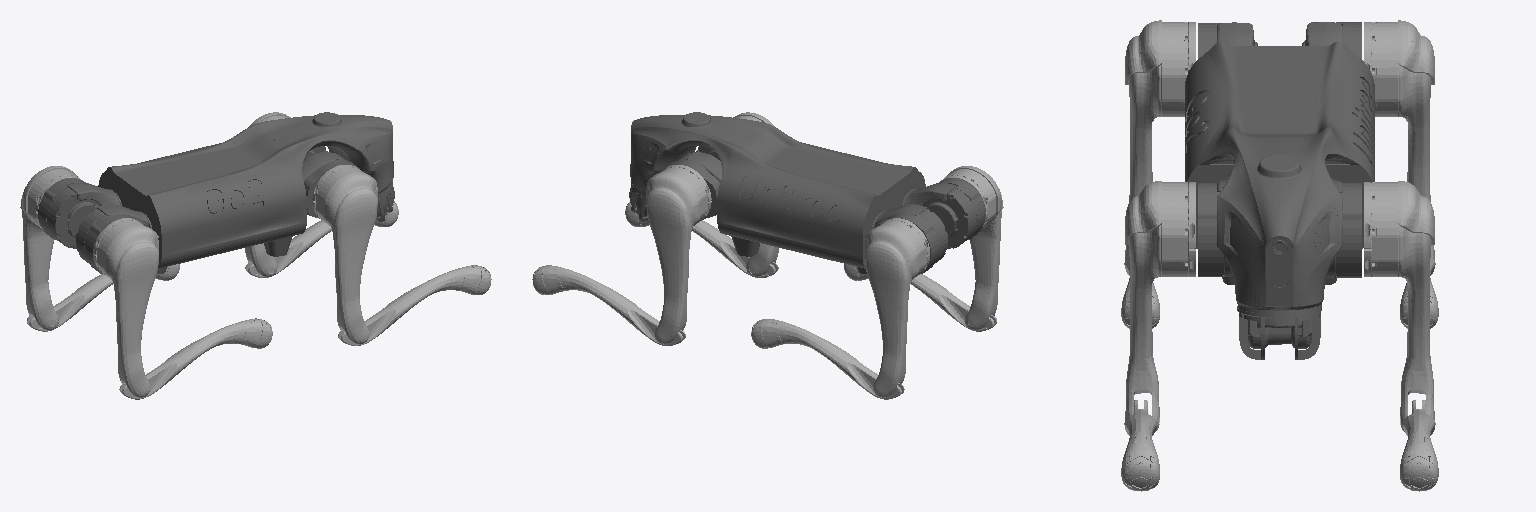
URDF robot description (go2_description):
<?xml version='1.0' encoding='utf-8'?>
<robot name="go2_description">
  <link name="base">
    <inertial>
      <origin xyz="0.021112 0 -0.005366" rpy="0 0 0" />
      <mass value="6.921" />
      <inertia ixx="0.02448" ixy="0.00012166" ixz="0.0014849" iyy="0.098077" iyz="-3.12E-05" izz="0.107" />
    </inertial>
    <visual>
      <origin xyz="0 0 0" rpy="0 0 0" />
      <geometry>
        <mesh filename="../../source/assets/go2/dae/base.dae" />
      </geometry>
      <material name="go2_base_mat">
        <color rgba="0.439215686 0.439215686 0.439215686 1" />
      </material>
    </visual>
    <collision>
      <origin rpy="0 0 0" xyz="0 0 0" />
      <geometry>
        <box size="0.3762 0.0935 0.114" />
      </geometry>
    </collision>
  </link>
  <link name="Head_upper">
    <inertial>
      <origin xyz="0 0 0" rpy="0 0 0" />
      <mass value="0.001" />
      <inertia ixx="9.6e-06" ixy="0" ixz="0" iyy="9.6e-06" iyz="0" izz="9.6e-06" />
    </inertial>
    <collision>
      <origin xyz="0 0 0" rpy="0 0 0" />
      <geometry>
        <cylinder radius="0.05" length="0.09" />
      </geometry>
    </collision>
  </link>
  <joint name="Head_upper_joint" type="fixed" dont_collapse="true">
    <origin xyz="0.285 0 0.01" rpy="0 0 0" />
    <parent link="base" />
    <child link="Head_upper" />
    <axis xyz="0 0 0" />
  </joint>
  <link name="Head_lower">
    <inertial>
      <origin xyz="0 0 0" rpy="0 0 0" />
      <mass value="0.001" />
      <inertia ixx="9.6e-06" ixy="0" ixz="0" iyy="9.6e-06" iyz="0" izz="9.6e-06" />
    </inertial>
    <collision>
      <origin xyz="0 0 0" rpy="0 0 0" />
      <geometry>
        <sphere radius="0.047" />
      </geometry>
    </collision>
  </link>
  <joint name="Head_lower_joint" type="fixed" dont_collapse="true">
    <origin xyz="0.008 0 -0.07" rpy="0 0 0" />
    <parent link="Head_upper" />
    <child link="Head_lower" />
    <axis xyz="0 0 0" />
  </joint>
  <link name="FL_hip">
    <inertial>
      <origin xyz="-0.0054 0.00194 -0.000105" rpy="0 0 0" />
      <mass value="0.678" />
      <inertia ixx="0.00048" ixy="-3.01E-06" ixz="1.11E-06" iyy="0.000884" iyz="-1.42E-06" izz="0.000596" />
    </inertial>
    <visual>
      <origin xyz="0 0 0" rpy="0 0 0" />
      <geometry>
        <mesh filename="../../source/assets/go2/dae/hip.dae" />
      </geometry>
      <material name="go2_FL_hip_mat">
        <color rgba="0.439215686 0.439215686 0.439215686 1" />
      </material>
    </visual>
    <collision>
      <origin rpy="1.5707963267948966 0 0" xyz="0 0.08 0" />
      <geometry>
        <cylinder length="0.04" radius="0.046" />
      </geometry>
    </collision>
  </link>
  <joint name="FL_hip_joint" type="revolute">
    <origin xyz="0.1934 0.0465 0" rpy="0 0 0" />
    <parent link="base" />
    <child link="FL_hip" />
    <axis xyz="1 0 0" />
    <limit lower="-1.0472" upper="1.0472" effort="23.7" velocity="30.1" />
  </joint>
  <link name="FL_thigh">
    <inertial>
      <origin xyz="-0.00374 -0.0223 -0.0327" rpy="0 0 0" />
      <mass value="1.152" />
      <inertia ixx="0.00584" ixy="8.72E-05" ixz="-0.000289" iyy="0.0058" iyz="0.000808" izz="0.00103" />
    </inertial>
    <visual>
      <origin xyz="0 0 0" rpy="0 0 0" />
      <geometry>
        <mesh filename="../../source/assets/go2/dae/thigh.dae" />
      </geometry>
      <material name="go2_FL_thigh_mat">
        <color rgba="0.690196078 0.690196078 0.690196078 1" />
      </material>
    </visual>
    <collision>
      <origin rpy="0 1.5707963267948966 0" xyz="0 0 -0.1065" />
      <geometry>
        <box size="0.11 0.0245 0.034" />
      </geometry>
    </collision>
  </link>
  <joint name="FL_thigh_joint" type="revolute">
    <origin xyz="0 0.0955 0" rpy="0 0 0" />
    <parent link="FL_hip" />
    <child link="FL_thigh" />
    <axis xyz="0 1 0" />
    <limit lower="-1.5708" upper="3.4907" effort="23.7" velocity="30.1" />
  </joint>
  <link name="FL_calf">
    <inertial>
      <origin xyz="0.00548 -0.000975 -0.115" rpy="0 0 0" />
      <mass value="0.154" />
      <inertia ixx="0.00108" ixy="3.4E-07" ixz="1.72E-05" iyy="0.0011" iyz="8.28E-06" izz="3.29E-05" />
    </inertial>
    <visual>
      <origin xyz="0 0 0" rpy="0 0 0" />
      <geometry>
        <mesh filename="../../source/assets/go2/dae/calf.dae" />
      </geometry>
      <material name="go2_FL_calf_mat">
        <color rgba="0.690196078 0.690196078 0.690196078 1" />
      </material>
    </visual>
    <collision>
      <origin rpy="0 -0.21 0" xyz="0.008 0 -0.06" />
      <geometry>
        <cylinder length="0.12" radius="0.012" />
      </geometry>
    </collision>
  </link>
  <joint name="FL_calf_joint" type="revolute">
    <origin xyz="0 0 -0.213" rpy="0 0 0" />
    <parent link="FL_thigh" />
    <child link="FL_calf" />
    <axis xyz="0 1 0" />
    <limit lower="-2.7227" upper="-0.83776" effort="35.55" velocity="20.07" />
  </joint>
  <link name="FL_calflower">
    <collision>
      <origin rpy="0 0 0" xyz="0 0 0" />
      <geometry>
        <cylinder length="0.065" radius="0.011" />
      </geometry>
    </collision>
  </link>
  <joint name="FL_calflower_joint" type="fixed">
    <origin xyz="0.020 0 -0.148" rpy="0 0.05 0" />
    <parent link="FL_calf" />
    <child link="FL_calflower" />
    <axis xyz="0 0 0" />
  </joint>
  <link name="FL_calflower1">
    <collision>
      <origin rpy="0 0 0" xyz="0 0 0" />
      <geometry>
        <cylinder length="0.03" radius="0.0155" />
      </geometry>
    </collision>
  </link>
  <joint name="FL_calflower1_joint" type="fixed">
    <origin xyz="-0.01 0 -0.04" rpy="0 0.48 0" />
    <parent link="FL_calflower" />
    <child link="FL_calflower1" />
    <axis xyz="0 0 0" />
  </joint>
  <link name="FL_foot">
    <inertial>
      <origin xyz="0 0 0" rpy="0 0 0" />
      <mass value="0.04" />
      <inertia ixx="9.6e-06" ixy="0" ixz="0" iyy="9.6e-06" iyz="0" izz="9.6e-06" />
    </inertial>
    <visual>
      <origin xyz="0 0 0" rpy="0 0 0" />
      <geometry>
        <mesh filename="../../source/assets/go2/dae/foot.dae" />
      </geometry>
      <material name="go2_FL_foot_mat">
        <color rgba="0.690196078 0.690196078 0.690196078 1" />
      </material>
    </visual>
    <collision>
      <origin rpy="0 0 0" xyz="-0.002 0 0" />
      <geometry>
        <sphere radius="0.022" />
      </geometry>
    </collision>
  </link>
  <joint name="FL_foot_joint" type="fixed" dont_collapse="true">
    <origin xyz="0 0 -0.213" rpy="0 0 0" />
    <parent link="FL_calf" />
    <child link="FL_foot" />
    <axis xyz="0 0 0" />
  </joint>
  <link name="FR_hip">
    <inertial>
      <origin xyz="-0.0054 -0.00194 -0.000105" rpy="0 0 0" />
      <mass value="0.678" />
      <inertia ixx="0.00048" ixy="3.01E-06" ixz="1.11E-06" iyy="0.000884" iyz="1.42E-06" izz="0.000596" />
    </inertial>
    <visual>
      <origin xyz="0 0 0" rpy="3.1415 0 0" />
      <geometry>
        <mesh filename="../../source/assets/go2/dae/hip.dae" />
      </geometry>
      <material name="go2_FR_hip_mat">
        <color rgba="0.439215686 0.439215686 0.439215686 1" />
      </material>
    </visual>
    <collision>
      <origin rpy="1.5707963267948966 0 0" xyz="0 -0.08 0" />
      <geometry>
        <cylinder length="0.04" radius="0.046" />
      </geometry>
    </collision>
  </link>
  <joint name="FR_hip_joint" type="revolute">
    <origin xyz="0.1934 -0.0465 0" rpy="0 0 0" />
    <parent link="base" />
    <child link="FR_hip" />
    <axis xyz="1 0 0" />
    <limit lower="-1.0472" upper="1.0472" effort="23.7" velocity="30.1" />
  </joint>
  <link name="FR_thigh">
    <inertial>
      <origin xyz="-0.00374 0.0223 -0.0327" rpy="0 0 0" />
      <mass value="1.152" />
      <inertia ixx="0.00584" ixy="-8.72E-05" ixz="-0.000289" iyy="0.0058" iyz="-0.000808" izz="0.00103" />
    </inertial>
    <visual>
      <origin xyz="0 0 0" rpy="0 0 0" />
      <geometry>
        <mesh filename="../../source/assets/go2/dae/thigh_mirror.dae" />
      </geometry>
      <material name="go2_FR_thigh_mat">
        <color rgba="0.690196078 0.690196078 0.690196078 1" />
      </material>
    </visual>
    <collision>
      <origin rpy="0 1.5707963267948966 0" xyz="0 0 -0.1065" />
      <geometry>
        <box size="0.11 0.0245 0.034" />
      </geometry>
    </collision>
  </link>
  <joint name="FR_thigh_joint" type="revolute">
    <origin xyz="0 -0.0955 0" rpy="0 0 0" />
    <parent link="FR_hip" />
    <child link="FR_thigh" />
    <axis xyz="0 1 0" />
    <limit lower="-1.5708" upper="3.4907" effort="23.7" velocity="30.1" />
  </joint>
  <link name="FR_calf">
    <inertial>
      <origin xyz="0.00548 0.000975 -0.115" rpy="0 0 0" />
      <mass value="0.154" />
      <inertia ixx="0.00108" ixy="-3.4E-07" ixz="1.72E-05" iyy="0.0011" iyz="-8.28E-06" izz="3.29E-05" />
    </inertial>
    <visual>
      <origin xyz="0 0 0" rpy="0 0 0" />
      <geometry>
        <mesh filename="../../source/assets/go2/dae/calf_mirror.dae" />
      </geometry>
      <material name="go2_FR_calf_mat">
        <color rgba="0.690196078 0.690196078 0.690196078 1" />
      </material>
    </visual>
    <collision>
      <origin rpy="0 -0.2 0" xyz="0.01 0 -0.06" />
      <geometry>
        <cylinder length="0.12" radius="0.013" />
      </geometry>
    </collision>
  </link>
  <joint name="FR_calf_joint" type="revolute">
    <origin xyz="0 0 -0.213" rpy="0 0 0" />
    <parent link="FR_thigh" />
    <child link="FR_calf" />
    <axis xyz="0 1 0" />
    <limit lower="-2.7227" upper="-0.83776" effort="35.55" velocity="20.07" />
  </joint>
  <link name="FR_calflower">
    <collision>
      <origin rpy="0 0 0" xyz="0 0 0" />
      <geometry>
        <cylinder length="0.065" radius="0.011" />
      </geometry>
    </collision>
  </link>
  <joint name="FR_calflower_joint" type="fixed">
    <origin xyz="0.020 0 -0.148" rpy="0 0.05 0" />
    <parent link="FR_calf" />
    <child link="FR_calflower" />
    <axis xyz="0 0 0" />
  </joint>
  <link name="FR_calflower1">
    <collision>
      <origin rpy="0 0 0" xyz="0 0 0" />
      <geometry>
        <cylinder length="0.03" radius="0.0155" />
      </geometry>
    </collision>
  </link>
  <joint name="FR_calflower1_joint" type="fixed">
    <origin xyz="-0.01 0 -0.04" rpy="0 0.48 0" />
    <parent link="FR_calflower" />
    <child link="FR_calflower1" />
    <axis xyz="0 0 0" />
  </joint>
  <link name="FR_foot">
    <inertial>
      <origin xyz="0 0 0" rpy="0 0 0" />
      <mass value="0.04" />
      <inertia ixx="9.6e-06" ixy="0" ixz="0" iyy="9.6e-06" iyz="0" izz="9.6e-06" />
    </inertial>
    <visual>
      <origin xyz="0 0 0" rpy="0 0 0" />
      <geometry>
        <mesh filename="../../source/assets/go2/dae/foot.dae" />
      </geometry>
      <material name="go2_FR_foot_mat">
        <color rgba="0.690196078 0.690196078 0.690196078 1" />
      </material>
    </visual>
    <collision>
      <origin rpy="0 0 0" xyz="-0.002 0 0" />
      <geometry>
        <sphere radius="0.022" />
      </geometry>
    </collision>
  </link>
  <joint name="FR_foot_joint" type="fixed" dont_collapse="true">
    <origin xyz="0 0 -0.213" rpy="0 0 0" />
    <parent link="FR_calf" />
    <child link="FR_foot" />
    <axis xyz="0 0 0" />
  </joint>
  <link name="RL_hip">
    <inertial>
      <origin xyz="0.0054 0.00194 -0.000105" rpy="0 0 0" />
      <mass value="0.678" />
      <inertia ixx="0.00048" ixy="3.01E-06" ixz="-1.11E-06" iyy="0.000884" iyz="-1.42E-06" izz="0.000596" />
    </inertial>
    <visual>
      <origin xyz="0 0 0" rpy="0 3.1415 0" />
      <geometry>
        <mesh filename="../../source/assets/go2/dae/hip.dae" />
      </geometry>
      <material name="go2_RL_hip_mat">
        <color rgba="0.439215686 0.439215686 0.439215686 1" />
      </material>
    </visual>
    <collision>
      <origin rpy="1.5707963267948966 0 0" xyz="0 0.08 0" />
      <geometry>
        <cylinder length="0.04" radius="0.046" />
      </geometry>
    </collision>
  </link>
  <joint name="RL_hip_joint" type="revolute">
    <origin xyz="-0.1934 0.0465 0" rpy="0 0 0" />
    <parent link="base" />
    <child link="RL_hip" />
    <axis xyz="1 0 0" />
    <limit lower="-1.0472" upper="1.0472" effort="23.7" velocity="30.1" />
  </joint>
  <link name="RL_thigh">
    <inertial>
      <origin xyz="-0.00374 -0.0223 -0.0327" rpy="0 0 0" />
      <mass value="1.152" />
      <inertia ixx="0.00584" ixy="8.72E-05" ixz="-0.000289" iyy="0.0058" iyz="0.000808" izz="0.00103" />
    </inertial>
    <visual>
      <origin xyz="0 0 0" rpy="0 0 0" />
      <geometry>
        <mesh filename="../../source/assets/go2/dae/thigh.dae" />
      </geometry>
      <material name="go2_RL_thigh_mat">
        <color rgba="0.690196078 0.690196078 0.690196078 1" />
      </material>
    </visual>
    <collision>
      <origin rpy="0 1.5707963267948966 0" xyz="0 0 -0.1065" />
      <geometry>
        <box size="0.11 0.0245 0.034" />
      </geometry>
    </collision>
  </link>
  <joint name="RL_thigh_joint" type="revolute">
    <origin xyz="0 0.0955 0" rpy="0 0 0" />
    <parent link="RL_hip" />
    <child link="RL_thigh" />
    <axis xyz="0 1 0" />
    <limit lower="-0.5236" upper="4.5379" effort="23.7" velocity="30.1" />
  </joint>
  <link name="RL_calf">
    <inertial>
      <origin xyz="0.00548 -0.000975 -0.115" rpy="0 0 0" />
      <mass value="0.154" />
      <inertia ixx="0.00108" ixy="3.4E-07" ixz="1.72E-05" iyy="0.0011" iyz="8.28E-06" izz="3.29E-05" />
    </inertial>
    <visual>
      <origin xyz="0 0 0" rpy="0 0 0" />
      <geometry>
        <mesh filename="../../source/assets/go2/dae/calf.dae" />
      </geometry>
      <material name="go2_RL_calf_mat">
        <color rgba="0.690196078 0.690196078 0.690196078 1" />
      </material>
    </visual>
    <collision>
      <origin rpy="0 -0.2 0" xyz="0.01 0 -0.06" />
      <geometry>
        <cylinder length="0.12" radius="0.013" />
      </geometry>
    </collision>
  </link>
  <joint name="RL_calf_joint" type="revolute">
    <origin xyz="0 0 -0.213" rpy="0 0 0" />
    <parent link="RL_thigh" />
    <child link="RL_calf" />
    <axis xyz="0 1 0" />
    <limit lower="-2.7227" upper="-0.83776" effort="35.55" velocity="20.07" />
  </joint>
  <link name="RL_calflower">
    <collision>
      <origin rpy="0 0 0" xyz="0 0 0" />
      <geometry>
        <cylinder length="0.065" radius="0.011" />
      </geometry>
    </collision>
  </link>
  <joint name="RL_calflower_joint" type="fixed">
    <origin xyz="0.020 0 -0.148" rpy="0 0.05 0" />
    <parent link="RL_calf" />
    <child link="RL_calflower" />
    <axis xyz="0 0 0" />
  </joint>
  <link name="RL_calflower1">
    <collision>
      <origin rpy="0 0 0" xyz="0 0 0" />
      <geometry>
        <cylinder length="0.03" radius="0.0155" />
      </geometry>
    </collision>
  </link>
  <joint name="RL_calflower1_joint" type="fixed">
    <origin xyz="-0.01 0 -0.04" rpy="0 0.48 0" />
    <parent link="RL_calflower" />
    <child link="RL_calflower1" />
    <axis xyz="0 0 0" />
  </joint>
  <link name="RL_foot">
    <inertial>
      <origin xyz="0 0 0" rpy="0 0 0" />
      <mass value="0.04" />
      <inertia ixx="9.6e-06" ixy="0" ixz="0" iyy="9.6e-06" iyz="0" izz="9.6e-06" />
    </inertial>
    <visual>
      <origin xyz="0 0 0" rpy="0 0 0" />
      <geometry>
        <mesh filename="../../source/assets/go2/dae/foot.dae" />
      </geometry>
      <material name="go2_RL_foot_mat">
        <color rgba="0.690196078 0.690196078 0.690196078 1" />
      </material>
    </visual>
    <collision>
      <origin rpy="0 0 0" xyz="-0.002 0 0" />
      <geometry>
        <sphere radius="0.022" />
      </geometry>
    </collision>
  </link>
  <joint name="RL_foot_joint" type="fixed" dont_collapse="true">
    <origin xyz="0 0 -0.213" rpy="0 0 0" />
    <parent link="RL_calf" />
    <child link="RL_foot" />
    <axis xyz="0 0 0" />
  </joint>
  <link name="RR_hip">
    <inertial>
      <origin xyz="0.0054 -0.00194 -0.000105" rpy="0 0 0" />
      <mass value="0.678" />
      <inertia ixx="0.00048" ixy="-3.01E-06" ixz="-1.11E-06" iyy="0.000884" iyz="1.42E-06" izz="0.000596" />
    </inertial>
    <visual>
      <origin xyz="0 0 0" rpy="3.1415 3.1415 0" />
      <geometry>
        <mesh filename="../../source/assets/go2/dae/hip.dae" />
      </geometry>
      <material name="go2_RR_hip_mat">
        <color rgba="0.439215686 0.439215686 0.439215686 1" />
      </material>
    </visual>
    <collision>
      <origin rpy="1.5707963267948966 0 0" xyz="0 -0.08 0" />
      <geometry>
        <cylinder length="0.04" radius="0.046" />
      </geometry>
    </collision>
  </link>
  <joint name="RR_hip_joint" type="revolute">
    <origin xyz="-0.1934 -0.0465 0" rpy="0 0 0" />
    <parent link="base" />
    <child link="RR_hip" />
    <axis xyz="1 0 0" />
    <limit lower="-1.0472" upper="1.0472" effort="23.7" velocity="30.1" />
  </joint>
  <link name="RR_thigh">
    <inertial>
      <origin xyz="-0.00374 0.0223 -0.0327" rpy="0 0 0" />
      <mass value="1.152" />
      <inertia ixx="0.00584" ixy="-8.72E-05" ixz="-0.000289" iyy="0.0058" iyz="-0.000808" izz="0.00103" />
    </inertial>
    <visual>
      <origin xyz="0 0 0" rpy="0 0 0" />
      <geometry>
        <mesh filename="../../source/assets/go2/dae/thigh_mirror.dae" />
      </geometry>
      <material name="go2_RR_thigh_mat">
        <color rgba="0.690196078 0.690196078 0.690196078 1" />
      </material>
    </visual>
    <collision>
      <origin rpy="0 1.5707963267948966 0" xyz="0 0 -0.1065" />
      <geometry>
        <box size="0.11 0.0245 0.034" />
      </geometry>
    </collision>
  </link>
  <joint name="RR_thigh_joint" type="revolute">
    <origin xyz="0 -0.0955 0" rpy="0 0 0" />
    <parent link="RR_hip" />
    <child link="RR_thigh" />
    <axis xyz="0 1 0" />
    <limit lower="-0.5236" upper="4.5379" effort="23.7" velocity="30.1" />
  </joint>
  <link name="RR_calf">
    <inertial>
      <origin xyz="0.00548 0.000975 -0.115" rpy="0 0 0" />
      <mass value="0.154" />
      <inertia ixx="0.00108" ixy="-3.4E-07" ixz="1.72E-05" iyy="0.0011" iyz="-8.28E-06" izz="3.29E-05" />
    </inertial>
    <visual>
      <origin xyz="0 0 0" rpy="0 0 0" />
      <geometry>
        <mesh filename="../../source/assets/go2/dae/calf_mirror.dae" />
      </geometry>
      <material name="go2_RR_calf_mat">
        <color rgba="0.690196078 0.690196078 0.690196078 1" />
      </material>
    </visual>
    <collision>
      <origin rpy="0 -0.2 0" xyz="0.01 0 -0.06" />
      <geometry>
        <cylinder length="0.12" radius="0.013" />
      </geometry>
    </collision>
  </link>
  <joint name="RR_calf_joint" type="revolute">
    <origin xyz="0 0 -0.213" rpy="0 0 0" />
    <parent link="RR_thigh" />
    <child link="RR_calf" />
    <axis xyz="0 1 0" />
    <limit lower="-2.7227" upper="-0.83776" effort="35.55" velocity="20.07" />
  </joint>
  <link name="RR_calflower">
    <collision>
      <origin rpy="0 0 0" xyz="0 0 0" />
      <geometry>
        <cylinder length="0.065" radius="0.011" />
      </geometry>
    </collision>
  </link>
  <joint name="RR_calflower_joint" type="fixed">
    <origin xyz="0.020 0 -0.148" rpy="0 0.05 0" />
    <parent link="RR_calf" />
    <child link="RR_calflower" />
    <axis xyz="0 0 0" />
  </joint>
  <link name="RR_calflower1">
    <collision>
      <origin rpy="0 0 0" xyz="0 0 0" />
      <geometry>
        <cylinder length="0.03" radius="0.0155" />
      </geometry>
    </collision>
  </link>
  <joint name="RR_calflower1_joint" type="fixed">
    <origin xyz="-0.01 0 -0.04" rpy="0 0.48 0" />
    <parent link="RR_calflower" />
    <child link="RR_calflower1" />
    <axis xyz="0 0 0" />
  </joint>
  <link name="RR_foot">
    <inertial>
      <origin xyz="0 0 0" rpy="0 0 0" />
      <mass value="0.04" />
      <inertia ixx="9.6e-06" ixy="0" ixz="0" iyy="9.6e-06" iyz="0" izz="9.6e-06" />
    </inertial>
    <visual>
      <origin xyz="0 0 0" rpy="0 0 0" />
      <geometry>
        <mesh filename="../../source/assets/go2/dae/foot.dae" />
      </geometry>
      <material name="go2_RR_foot_mat">
        <color rgba="0.690196078 0.690196078 0.690196078 1" />
      </material>
    </visual>
    <collision>
      <origin rpy="0 0 0" xyz="-0.002 0 0" />
      <geometry>
        <sphere radius="0.022" />
      </geometry>
    </collision>
  </link>
  <joint name="RR_foot_joint" type="fixed" dont_collapse="true">
    <origin xyz="0 0 -0.213" rpy="0 0 0" />
    <parent link="RR_calf" />
    <child link="RR_foot" />
    <axis xyz="0 0 0" />
  </joint>
  <link name="imu">
    <inertial>
      <origin xyz="0 0 0" rpy="0 0 0" />
      <mass value="0" />
      <inertia ixx="0" ixy="0" ixz="0" iyy="0" iyz="0" izz="0" />
    </inertial>
  </link>
  <joint name="imu_joint" type="fixed">
    <origin xyz="-0.02557 0 0.04232" rpy="0 0 0" />
    <parent link="base" />
    <child link="imu" />
    <axis xyz="0 0 0" />
  </joint>
  <link name="radar">
    <inertial>
      <origin xyz="0 0 0" rpy="0 0 0" />
      <mass value="0" />
      <inertia ixx="0" ixy="0" ixz="0" iyy="0" iyz="0" izz="0" />
    </inertial>
  </link>
  <joint name="radar_joint" type="fixed">
    <origin xyz="0.28945 0 -0.046825" rpy="0 2.8782 0" />
    <parent link="base" />
    <child link="radar" />
    <axis xyz="0 0 0" />
  </joint>
</robot>

--- Facts derived from the render (not from the file) ---
Views: 3 orthographic renders of the robot side by side, from view 1: azimuth 30°, elevation 25°; view 2: azimuth 150°, elevation 25°; view 3: azimuth 270°, elevation 25°.
Model go2_description with 29 links and 28 joints (12 revolute, 16 fixed), rooted at base, posed joints at zero except 4 at the middle of their limits (FL_calf_joint = -1.78, FR_calf_joint = -1.78, RL_calf_joint = -1.78, RR_calf_joint = -1.78).
Links seen in each view (by area): view 1: base, FR_thigh, RR_thigh, RL_thigh, RL_hip, RR_calf, FR_calf, RR_hip, RL_calf, FL_calf, FR_hip, FL_thigh; view 2: base, FL_thigh, RL_thigh, RR_thigh, RR_hip, FL_calf, RL_calf, RL_hip, RR_calf, FR_calf, FL_hip, FR_thigh; view 3: base, FL_thigh, FR_thigh, RL_thigh, RR_thigh, FL_hip, FR_hip, FR_calf, FL_calf, RL_hip, RR_hip, FL_foot (+1 smaller).
Link boxes in pixels (x1=…): base: x1=98, y1=112, x2=394, y2=273; FR_thigh: x1=312, y1=165, x2=377, y2=344; RR_thigh: x1=94, y1=218, x2=158, y2=397; RL_thigh: x1=20, y1=166, x2=82, y2=330; RL_hip: x1=38, y1=178, x2=121, y2=248; RR_calf: x1=119, y1=319, x2=272, y2=399; FR_calf: x1=338, y1=265, x2=491, y2=345; RR_hip: x1=76, y1=204, x2=152, y2=274; RL_calf: x1=27, y1=266, x2=168, y2=331; FL_calf: x1=245, y1=204, x2=396, y2=277; FR_hip: x1=302, y1=151, x2=359, y2=218; FL_thigh: x1=245, y1=112, x2=290, y2=277; base: x1=629, y1=112, x2=925, y2=273; FL_thigh: x1=646, y1=165, x2=711, y2=344; RL_thigh: x1=865, y1=218, x2=929, y2=397; RR_thigh: x1=940, y1=166, x2=1003, y2=330; RR_hip: x1=902, y1=178, x2=985, y2=248; FL_calf: x1=532, y1=265, x2=685, y2=345; RL_calf: x1=751, y1=319, x2=904, y2=399; RL_hip: x1=871, y1=204, x2=947, y2=273; RR_calf: x1=855, y1=266, x2=996, y2=331; FR_calf: x1=629, y1=203, x2=778, y2=277; FL_hip: x1=664, y1=152, x2=721, y2=219; FR_thigh: x1=733, y1=112, x2=778, y2=277; base: x1=1185, y1=41, x2=1374, y2=359; FL_thigh: x1=1364, y1=181, x2=1434, y2=431; FR_thigh: x1=1125, y1=181, x2=1195, y2=431; RL_thigh: x1=1364, y1=20, x2=1434, y2=259; RR_thigh: x1=1125, y1=20, x2=1195, y2=259; FL_hip: x1=1327, y1=179, x2=1361, y2=277; FR_hip: x1=1198, y1=179, x2=1232, y2=277; FR_calf: x1=1121, y1=400, x2=1157, y2=488; FL_calf: x1=1402, y1=400, x2=1438, y2=489; RL_hip: x1=1302, y1=22, x2=1361, y2=58; RR_hip: x1=1198, y1=22, x2=1257, y2=58; FL_foot: x1=1400, y1=450, x2=1437, y2=491.
Bounding box of the posed robot: 0.6662 × 0.324 × 0.3208 m (x, y, z).
Meshes: 7 distinct files referenced, 17 mesh visuals loaded (7 Collada DAE).
